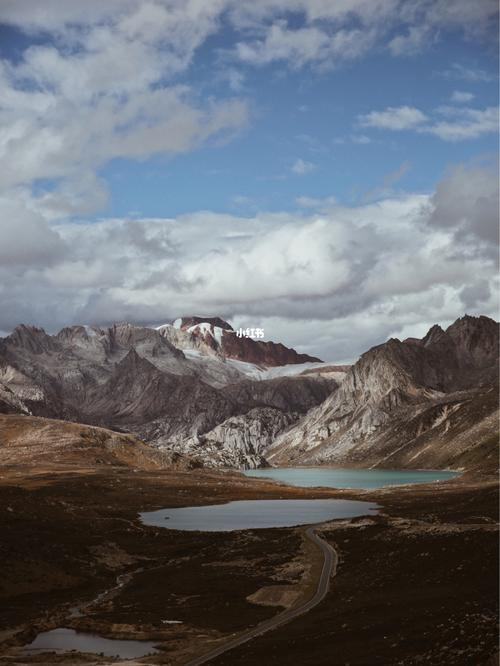mountain: (42, 305, 500, 474)
sky_cloud: (0, 38, 488, 217)
